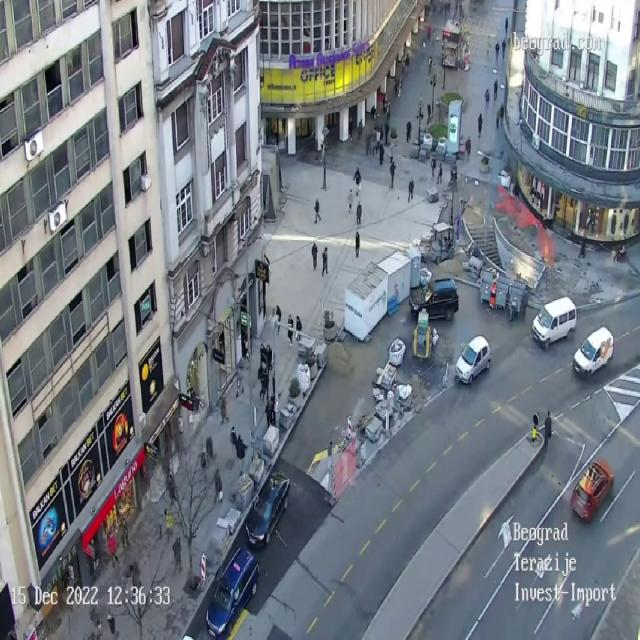car: (205, 546, 260, 638), (245, 470, 290, 548), (570, 458, 614, 522), (532, 296, 576, 351), (409, 278, 459, 322), (573, 326, 614, 376), (455, 335, 491, 385)
